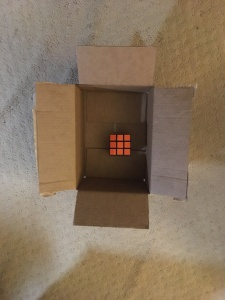innerbox: (77, 84, 149, 192)
outerbox: (35, 47, 190, 229)
product: (110, 134, 131, 156)
